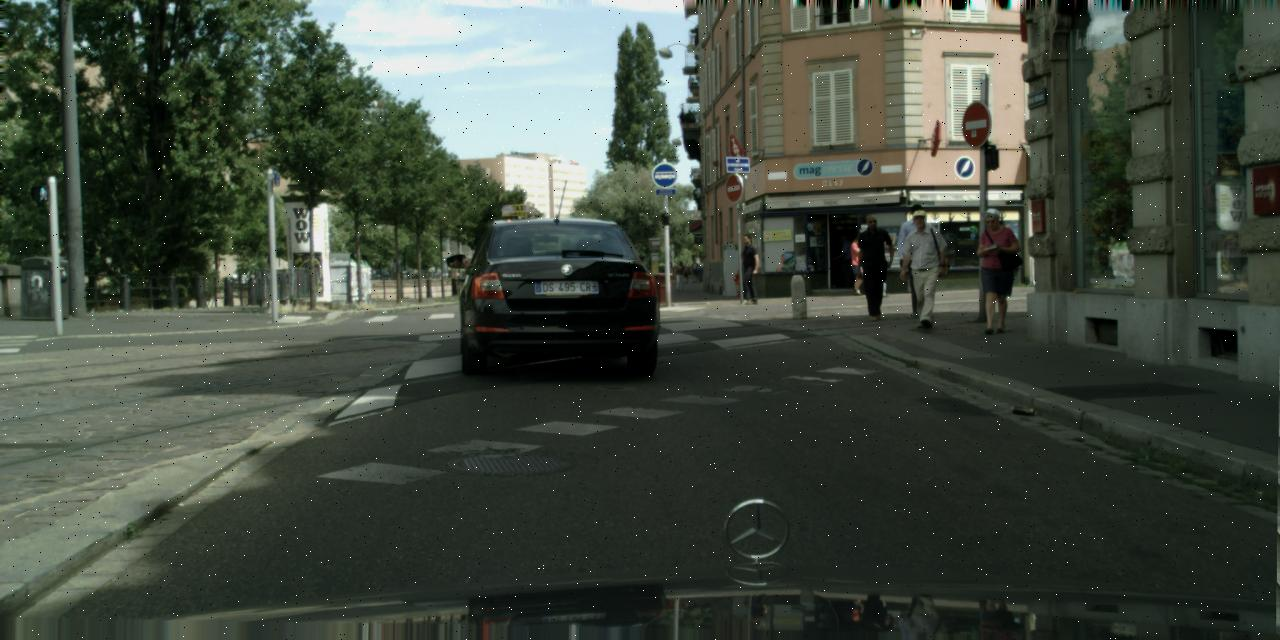ped: (968, 207, 1018, 334), (896, 209, 946, 329), (894, 204, 940, 317), (852, 215, 895, 320), (733, 234, 761, 304), (846, 234, 870, 295), (836, 235, 857, 286), (673, 260, 686, 292), (690, 259, 700, 282), (681, 264, 689, 283)
